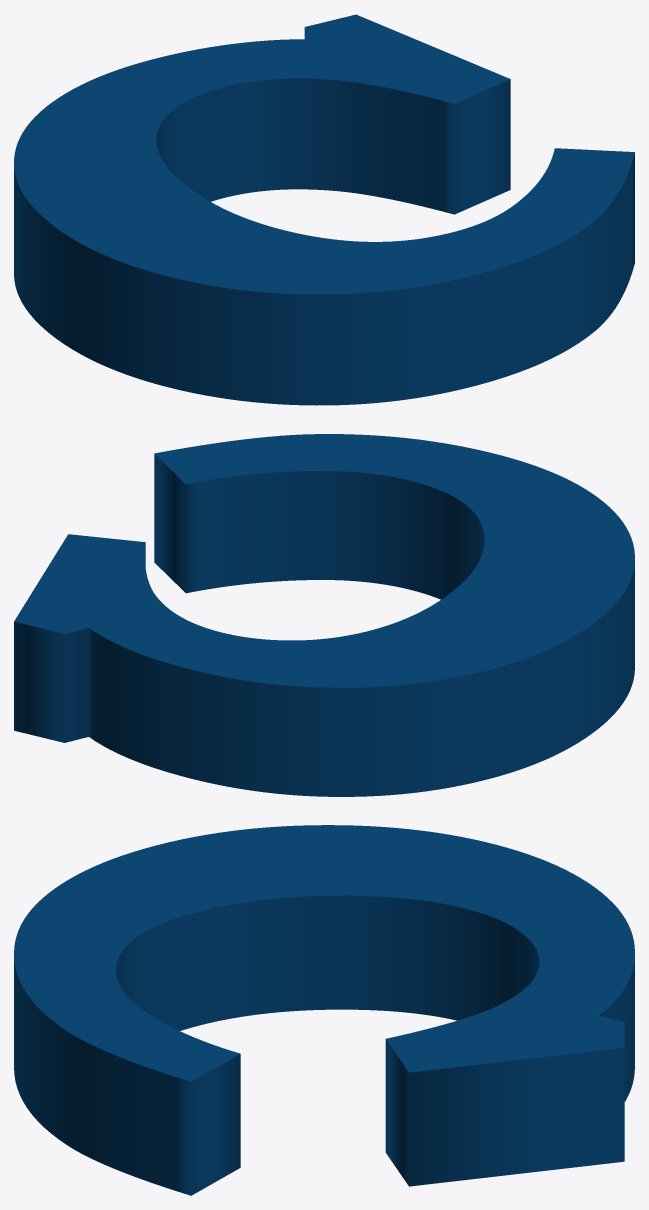
3 views of the same model, one above another, from view 1: azimuth 30°, elevation 25°; view 2: azimuth 150°, elevation 25°; view 3: azimuth 270°, elevation 25° (orthographic). The views are drawn at different scales.
Visible parts, largest first — view 1: Text; view 2: Text; view 3: Text.
Part boxes in pixels (bbox=[...]): Text: bbox=[14, 14, 634, 405]; Text: bbox=[14, 434, 634, 796]; Text: bbox=[14, 825, 634, 1195].
Size of the model in its own units: 48.32 by 10 by 49.38.
